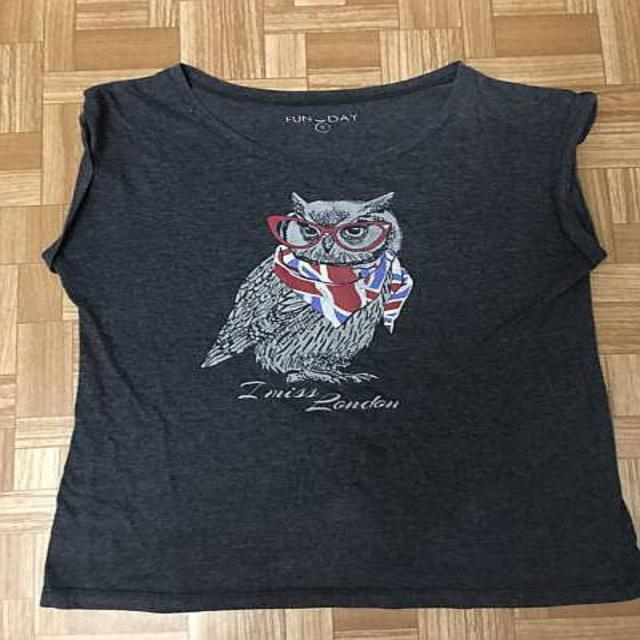T_SHIRT: (16, 49, 640, 616)
